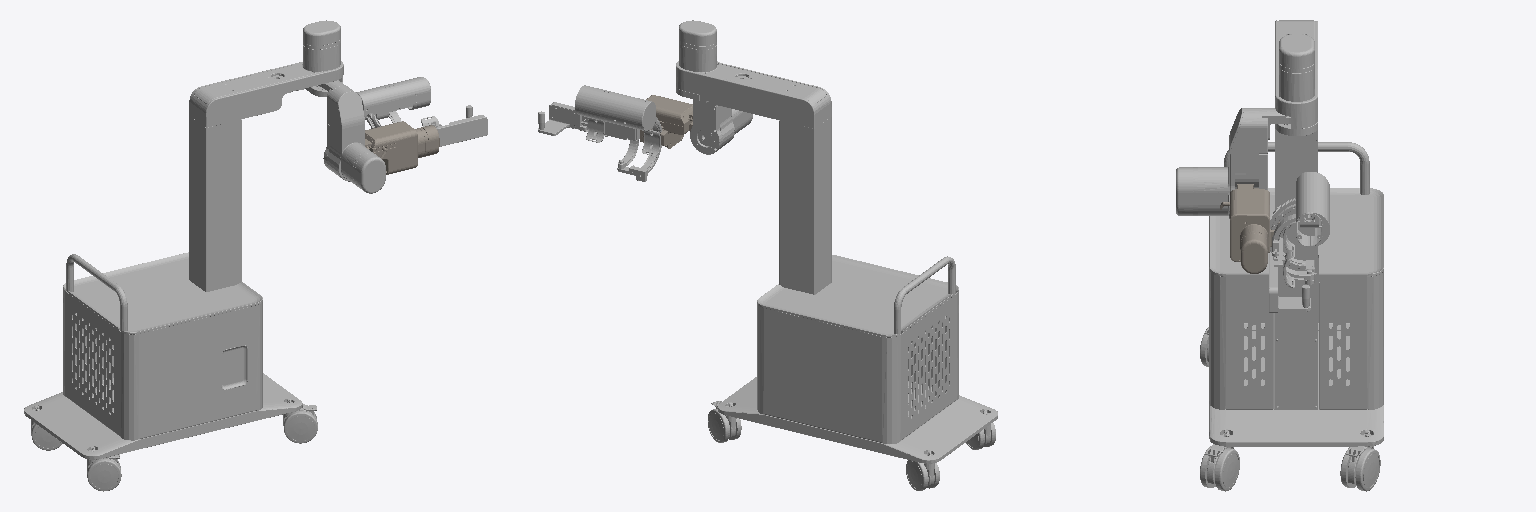
The robot description file, URDF, robot "powerarm_urdf":
<?xml version="1.0" encoding="utf-8"?>
<!-- This URDF was automatically created by SolidWorks to URDF Exporter! Originally created by [author] ([email redacted]) 
     Commit Version: 1.5.1-0-g916b5db  Build Version: 1.5.7152.31018
     For more information, please see http://wiki.ros.org/sw_urdf_exporter -->
<robot
  name="powerarm_urdf">
  <link
    name="base_link">
    <inertial>
      <origin
        xyz="0.08978 0.00062379 0.45981"
        rpy="0 0 0" />
      <mass
        value="112.73" />
      <inertia
        ixx="5.4398"
        ixy="-0.024922"
        ixz="-0.040023"
        iyy="7.5698"
        iyz="0.00089869"
        izz="6.4436" />
    </inertial>
    <visual>
      <origin
        xyz="0 0 0"
        rpy="0 0 0" />
      <geometry>
        <mesh
          filename="package://powerarm_urdf/meshes/base_link.STL" />
      </geometry>
      <material
        name="">
        <color
          rgba="0.75294 0.75294 0.75294 1" />
      </material>
    </visual>
    <collision>
      <origin
        xyz="0 0 0"
        rpy="0 0 0" />
      <geometry>
        <mesh
          filename="package://powerarm_urdf/meshes/base_link.STL" />
      </geometry>
    </collision>
  </link>
  <link
    name="shoulder_link_1">
    <inertial>
      <origin
        xyz="-0.0035312 -0.13515 -0.1295"
        rpy="0 0 0" />
      <mass
        value="7.4897" />
      <inertia
        ixx="0.044348"
        ixy="0.00014185"
        ixz="-0.0023816"
        iyy="0.042453"
        iyz="-0.0062172"
        izz="0.01437" />
    </inertial>
    <visual>
      <origin
        xyz="0 0 0"
        rpy="0 0 0" />
      <geometry>
        <mesh
          filename="package://powerarm_urdf/meshes/shoulder_link_1.STL" />
      </geometry>
      <material
        name="">
        <color
          rgba="0.75294 0.75294 0.75294 1" />
      </material>
    </visual>
    <collision>
      <origin
        xyz="0 0 0"
        rpy="0 0 0" />
      <geometry>
        <mesh
          filename="package://powerarm_urdf/meshes/shoulder_link_1.STL" />
      </geometry>
    </collision>
  </link>
  <joint
    name="shoulder_joint_1"
    type="revolute">
    <origin
      xyz="0.698849999997198 0 1.31618749999962"
      rpy="0 0 0" />
    <parent
      link="base_link" />
    <child
      link="shoulder_link_1" />
    <axis
      xyz="0 0 1" />
    <limit
      lower="-1.5708"
      upper="0.785398"
      effort="0"
      velocity="1.2" />
  </joint>
  <link
    name="shoulder_link_2">
    <inertial>
      <origin
        xyz="0.20026 6.1667E-05 0.010577"
        rpy="0 0 0" />
      <mass
        value="2.9675" />
      <inertia
        ixx="0.0050711"
        ixy="-0.00032811"
        ixz="4.6868E-05"
        iyy="0.0067807"
        iyz="-4.7618E-05"
        izz="0.0074734" />
    </inertial>
    <visual>
      <origin
        xyz="0 0 0"
        rpy="0 0 0" />
      <geometry>
        <mesh
          filename="package://powerarm_urdf/meshes/shoulder_link_2.STL" />
      </geometry>
      <material
        name="">
        <color
          rgba="0.64706 0.61961 0.58824 1" />
      </material>
    </visual>
    <collision>
      <origin
        xyz="0 0 0"
        rpy="0 0 0" />
      <geometry>
        <mesh
          filename="package://powerarm_urdf/meshes/shoulder_link_2.STL" />
      </geometry>
    </collision>
  </link>
  <joint
    name="shoulder_joint_2"
    type="revolute">
    <origin
      xyz="0 -0.14543 -0.2634"
      rpy="-1.5708 0 0" />
    <parent
      link="shoulder_link_1" />
    <child
      link="shoulder_link_2" />
    <axis
      xyz="0 0 1" />
    <limit
      lower="-0.5236"
      upper="1.5708"
      effort="0"
      velocity="1.2" />
  </joint>
  <link
    name="shoulder_link_3">
    <inertial>
      <origin
        xyz="0.0202099636303003 -0.0599945572053269 0.0704737638953157"
        rpy="0 0 0" />
      <mass
        value="2.82114385353419" />
      <inertia
        ixx="0.0132587231747916"
        ixy="-8.46028875588094E-05"
        ixz="-8.67752367351025E-05"
        iyy="0.00609813579413896"
        iyz="0.000218903832691613"
        izz="0.0114660345254401" />
    </inertial>
    <visual>
      <origin
        xyz="0 0 0"
        rpy="0 0 0" />
      <geometry>
        <mesh
          filename="package://powerarm_urdf/meshes/shoulder_link_3.STL" />
      </geometry>
      <material
        name="">
        <color
          rgba="0.752941176470588 0.752941176470588 0.752941176470588 1" />
      </material>
    </visual>
    <collision>
      <origin
        xyz="0 0 0"
        rpy="0 0 0" />
      <geometry>
        <mesh
          filename="package://powerarm_urdf/meshes/shoulder_link_3.STL" />
      </geometry>
    </collision>
  </link>
  <joint
    name="shoulder_joint_3"
    type="revolute">
    <origin
      xyz="0.19163 0.02842 0.17343"
      rpy="0 1.5708 0" />
    <parent
      link="shoulder_link_2" />
    <child
      link="shoulder_link_3" />
    <axis
      xyz="0 0 1" />
    <limit
      lower="-1.5708"
      upper="1.5708"
      effort="0"
      velocity="1.2" />
  </joint>
  <link
    name="elbow_link">
    <inertial>
      <origin
        xyz="0.0833479518409536 0.159223242917024 -0.00723299079194639"
        rpy="0 0 0" />
      <mass
        value="1.57382211837424" />
      <inertia
        ixx="0.00717308542457007"
        ixy="0.000906020103415368"
        ixz="-0.000192894255123084"
        iyy="0.00334880720547541"
        iyz="0.0003540693463422"
        izz="0.00622703611680052" />
    </inertial>
    <visual>
      <origin
        xyz="0 0 0"
        rpy="0 0 0" />
      <geometry>
        <mesh
          filename="package://powerarm_urdf/meshes/elbow_link.STL" />
      </geometry>
      <material
        name="">
        <color
          rgba="0.752941176470588 0.752941176470588 0.752941176470588 1" />
      </material>
    </visual>
    <collision>
      <origin
        xyz="0 0 0"
        rpy="0 0 0" />
      <geometry>
        <mesh
          filename="package://powerarm_urdf/meshes/elbow_link.STL" />
      </geometry>
    </collision>
  </link>
  <joint
    name="elbow_joint"
    type="revolute">
    <origin
      xyz="-0.0096516 0 0.09"
      rpy="1.5708 0 0" />
    <parent
      link="shoulder_link_3" />
    <child
      link="elbow_link" />
    <axis
      xyz="0 0 1" />
    <limit
      lower="0"
      upper="1.5708"
      effort="0"
      velocity="1.2" />
  </joint>
  <link
    name="ee_link">
    <inertial>
      <origin
        xyz="-2.6459E-08 1.0933E-07 0.0035936"
        rpy="0 0 0" />
      <mass
        value="0.027068" />
      <inertia
        ixx="9.6046E-06"
        ixy="5.0468E-11"
        ixz="-1.2285E-11"
        iyy="9.6044E-06"
        iyz="5.3157E-11"
        izz="2.0893E-06" />
    </inertial>
    <visual>
      <origin
        xyz="0 0 0"
        rpy="0 0 0" />
      <geometry>
        <mesh
          filename="package://powerarm_urdf/meshes/ee_link.STL" />
      </geometry>
      <material
        name="">
        <color
          rgba="0.75294 0.75294 0.75294 1" />
      </material>
    </visual>
    <collision>
      <origin
        xyz="0 0 0"
        rpy="0 0 0" />
      <geometry>
        <mesh
          filename="package://powerarm_urdf/meshes/ee_link.STL" />
      </geometry>
    </collision>
  </link>
  <joint
    name="ee_joint"
    type="fixed">
    <origin
      xyz="0.0105000002665487 0.344 0.000499999999998835"
      rpy="0 0 0" />
    <parent
      link="elbow_link" />
    <child
      link="ee_link" />
    <axis
      xyz="0 0 0" />
  </joint>
</robot>

--- Render facts (derived) ---
The picture shows the robot from 3 angles, left to right: view 1: azimuth 30°, elevation 25°; view 2: azimuth 150°, elevation 25°; view 3: azimuth 270°, elevation 25°; orthographic projection.
Robot: powerarm_urdf — 6 links, 5 joints (4 revolute, 1 fixed); root link base_link; default pose: every joint at zero.
Links seen in each view (by area): view 1: base_link, shoulder_link_1, shoulder_link_2, shoulder_link_3, elbow_link; view 2: base_link, shoulder_link_3, shoulder_link_1, elbow_link, shoulder_link_2; view 3: base_link, shoulder_link_1, shoulder_link_2, shoulder_link_3, elbow_link.
Link boxes in pixels (<box>): base_link: <box>24,20,343,491</box>; shoulder_link_1: <box>318,80,385,193</box>; shoulder_link_2: <box>365,121,439,174</box>; shoulder_link_3: <box>356,77,430,128</box>; elbow_link: <box>389,111,487,146</box>; base_link: <box>676,20,997,490</box>; shoulder_link_3: <box>575,85,661,181</box>; shoulder_link_1: <box>690,61,752,154</box>; elbow_link: <box>538,102,639,168</box>; shoulder_link_2: <box>640,95,692,148</box>; base_link: <box>1200,20,1383,491</box>; shoulder_link_1: <box>1176,108,1290,218</box>; shoulder_link_2: <box>1220,184,1279,273</box>; shoulder_link_3: <box>1270,172,1329,284</box>; elbow_link: <box>1269,214,1314,312</box>.
Size in the robot's own frame: 1.81 by 0.6115 by 1.54 metres.
Meshes: 6 distinct files referenced, 6 mesh visuals loaded (6 binary STL).
